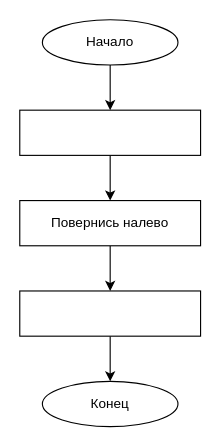
Image size: 220x446. Some labels were removed from this diagram. Each missing label, with the centre of its shape:
Иди прямо 1 клетку: (110,313)
Иди прямо 2 клетки: (110,132)
